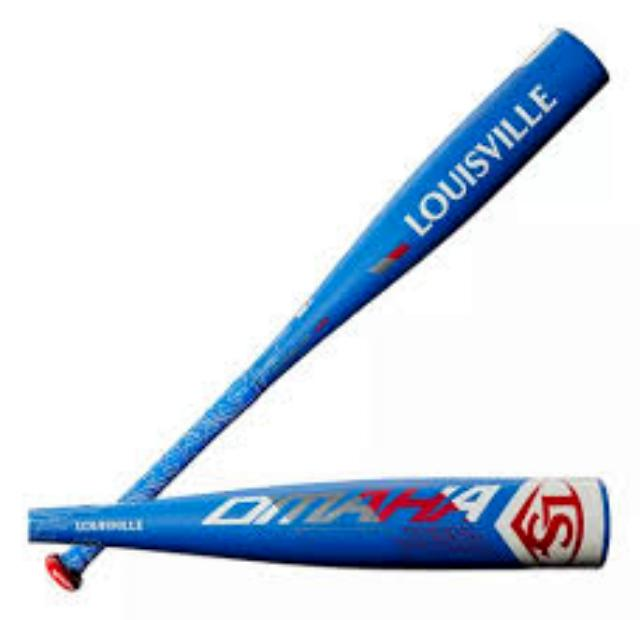baseball bat: (26, 474, 608, 590), (1, 479, 610, 589)
